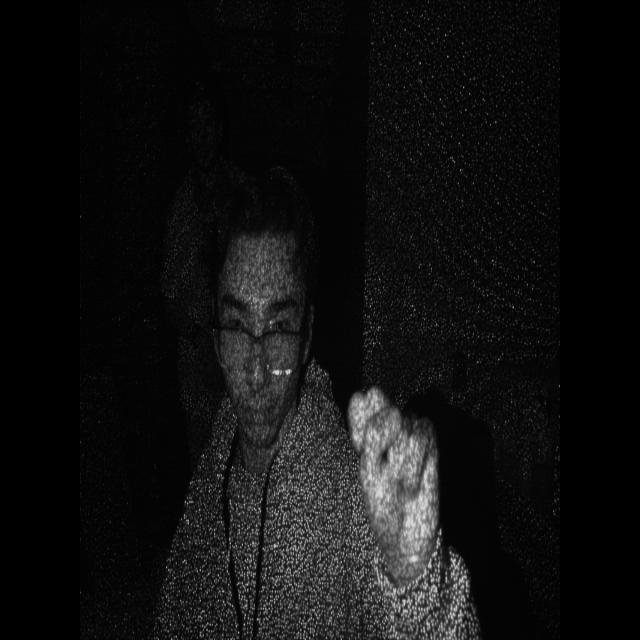S: (338, 368, 451, 587)
